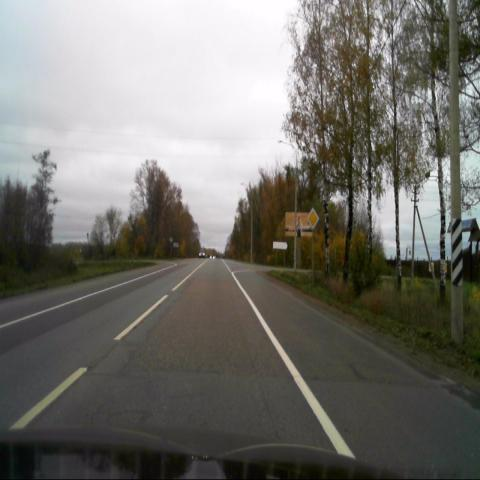2_1: (307, 207, 320, 230)
